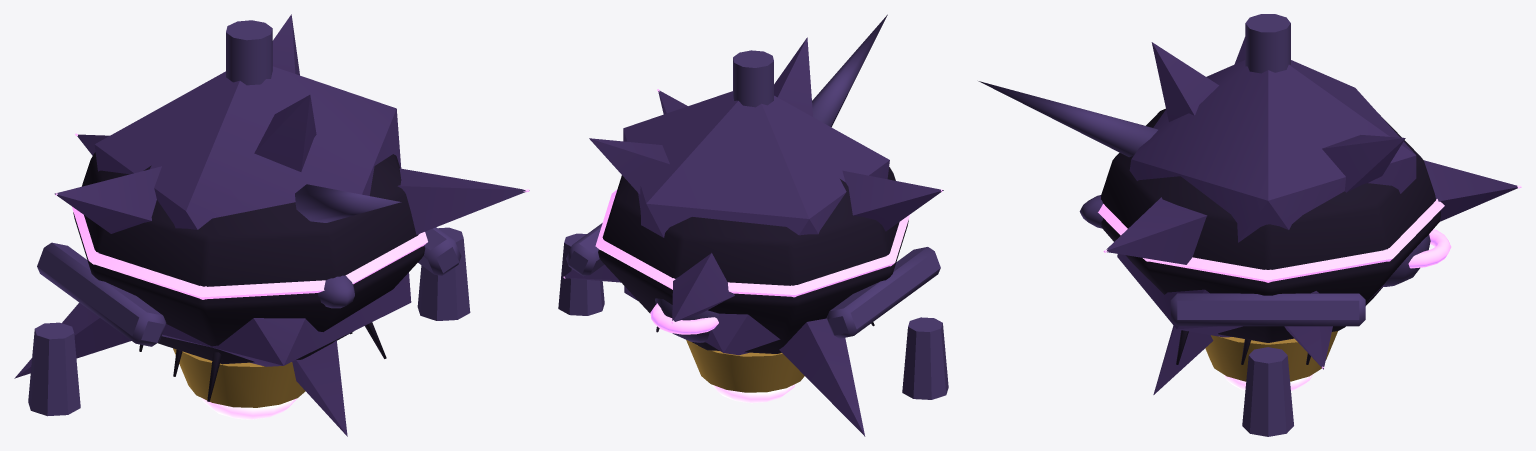
File: beasts_w0.glb
3 views of the same model, side by side, from view 1: azimuth 30°, elevation 25°; view 2: azimuth 150°, elevation 25°; view 3: azimuth 270°, elevation 25° (orthographic). The views are drawn at different scales.
Visible parts, largest first — view 1: coner_body, mirror_body, unglue_body; view 2: coner_body, mirror_body, unglue_body; view 3: mirror_body, coner_body, unglue_body.
Part boxes in pixels (x1,y1,x2,y2): coner_body: (28, 20, 470, 419); mirror_body: (14, 14, 529, 436); unglue_body: (139, 184, 401, 401); coner_body: (558, 50, 948, 403); mirror_body: (562, 37, 943, 436); unglue_body: (650, 14, 887, 342); mirror_body: (1103, 37, 1521, 394); coner_body: (1098, 14, 1444, 436); unglue_body: (978, 81, 1451, 364).
Bounding box in the file's own units: 0.74 × 0.6175 × 0.8372.
